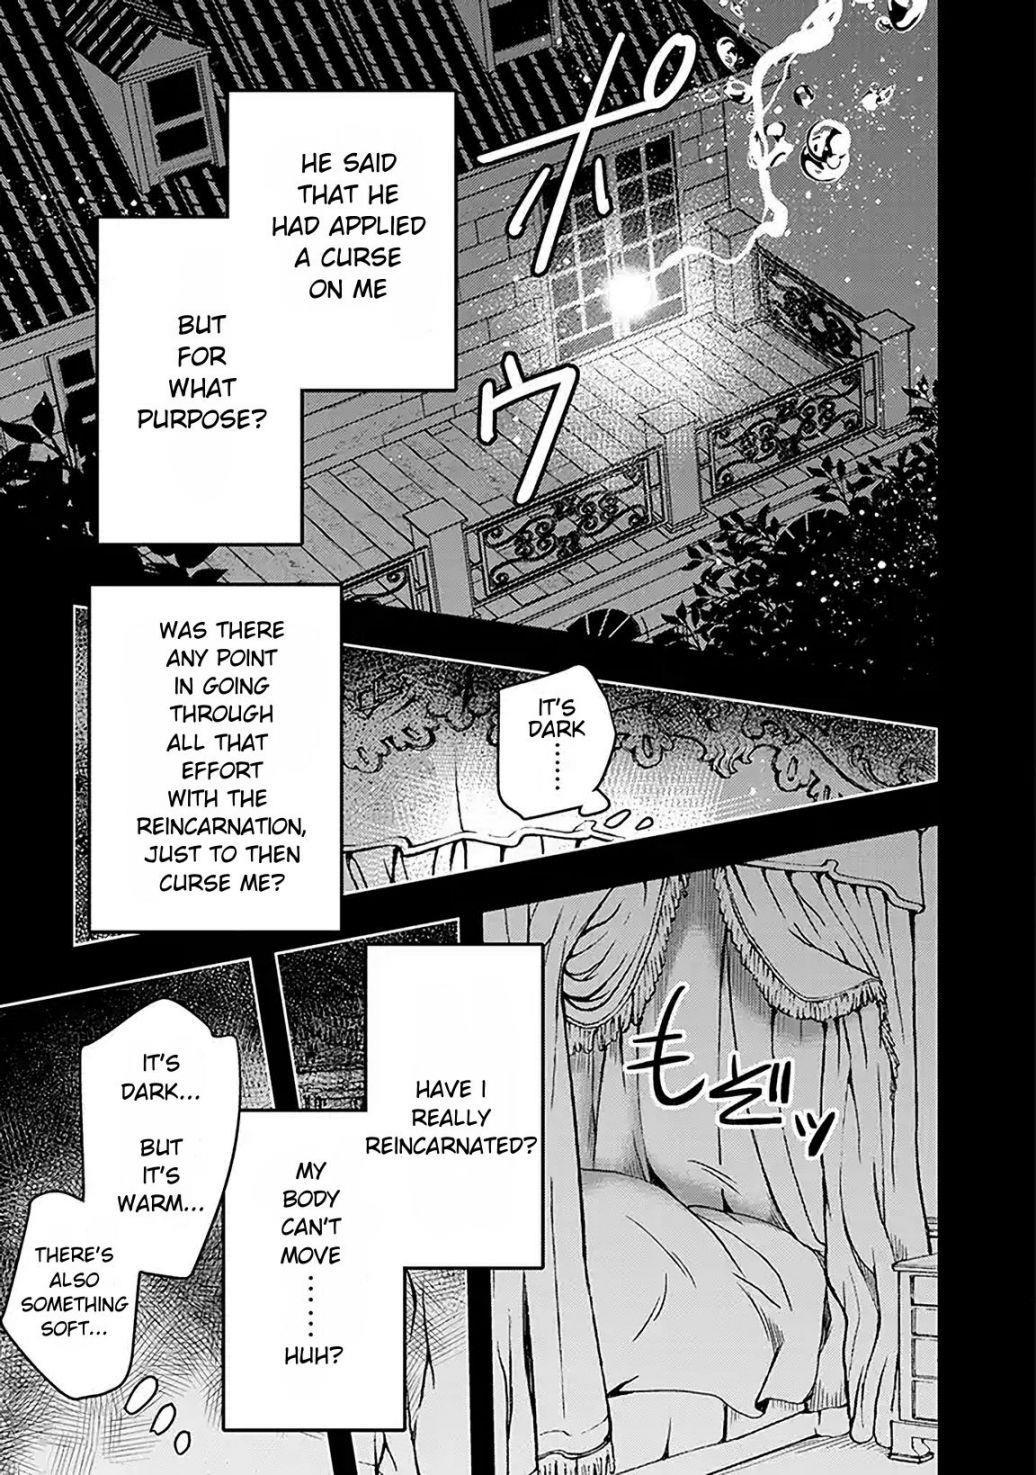Bubble: (86, 581, 345, 935), (362, 940, 551, 1271), (95, 214, 269, 547), (272, 89, 459, 395), (76, 993, 244, 1227), (247, 1107, 359, 1432), (0, 1231, 142, 1400), (481, 664, 617, 820)
